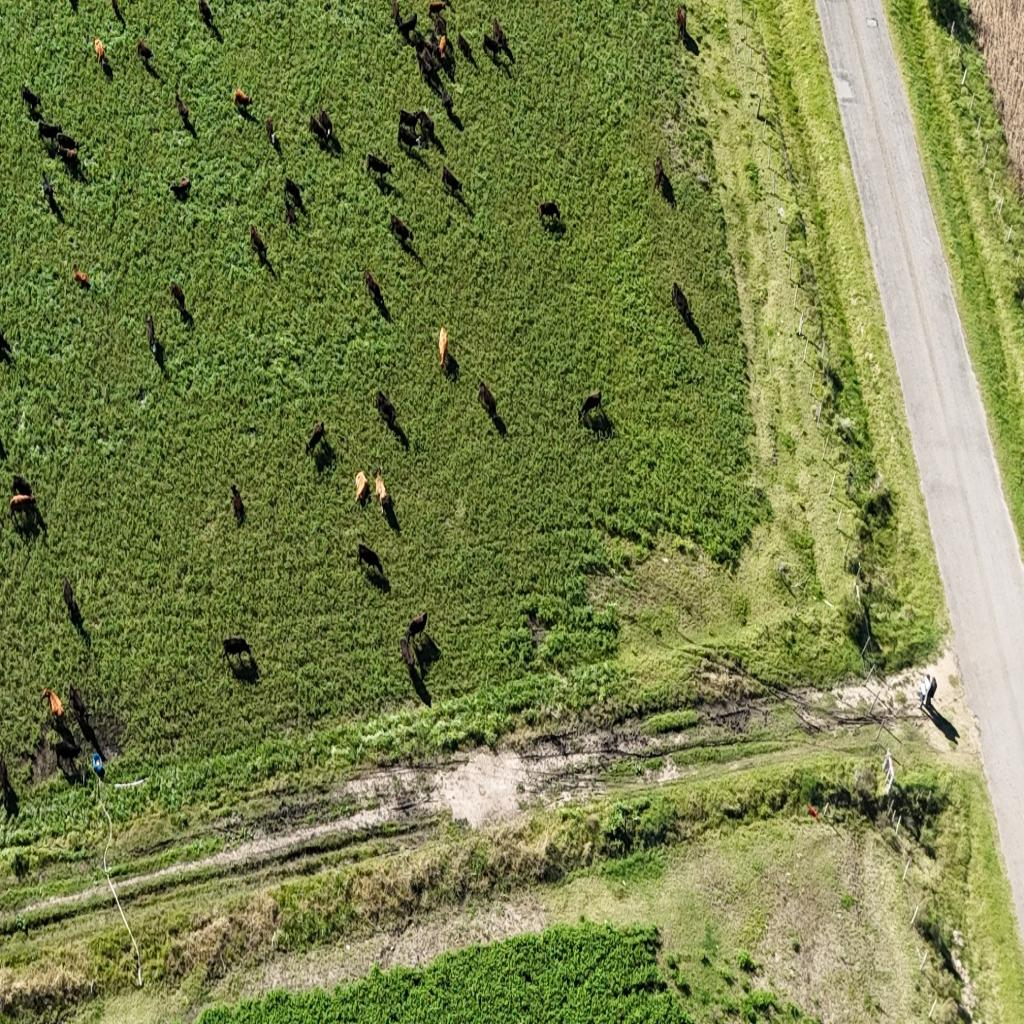cow: (70, 683, 98, 740), (578, 388, 608, 433), (477, 380, 504, 429), (55, 740, 84, 784), (222, 632, 252, 665), (358, 543, 384, 581), (0, 757, 17, 815), (405, 609, 429, 648), (9, 494, 38, 526), (376, 390, 398, 431), (672, 280, 691, 324), (374, 469, 390, 521), (176, 86, 194, 132), (40, 173, 60, 214), (62, 580, 80, 625), (304, 419, 325, 457), (416, 44, 437, 81), (389, 216, 413, 248), (364, 269, 384, 307), (170, 281, 190, 319), (393, 8, 416, 40), (442, 164, 463, 198), (56, 133, 78, 165), (366, 153, 393, 179), (416, 109, 435, 145), (250, 223, 268, 261), (284, 176, 304, 210), (37, 120, 62, 147), (197, 0, 218, 31), (398, 109, 420, 138), (483, 32, 504, 61), (21, 84, 41, 114), (539, 200, 560, 228), (230, 487, 245, 525), (42, 688, 62, 716), (12, 474, 34, 499), (0, 327, 14, 364), (316, 441, 333, 471), (168, 174, 190, 197), (400, 637, 414, 672), (320, 110, 335, 142), (354, 471, 368, 505), (234, 86, 251, 114), (137, 39, 153, 68), (653, 157, 665, 195), (439, 84, 453, 116), (676, 4, 687, 44), (492, 16, 506, 47), (309, 117, 325, 144), (438, 326, 448, 368), (72, 266, 90, 289), (146, 313, 156, 354), (458, 32, 472, 61), (437, 35, 449, 67), (94, 36, 106, 66), (428, 0, 448, 18), (108, 0, 123, 23), (101, 55, 113, 81), (266, 116, 276, 145), (390, 0, 400, 24)
